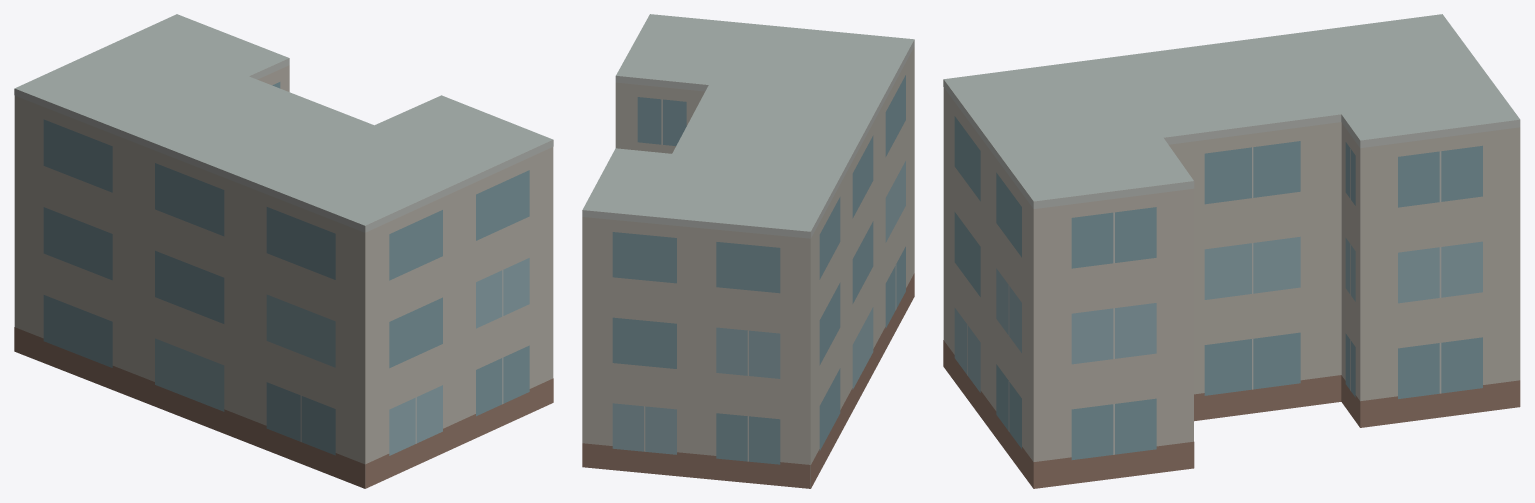
File: survey-upis-32894780.glb
The picture shows the model from 3 angles, left to right: view 1: azimuth 30°, elevation 25°; view 2: azimuth 150°, elevation 25°; view 3: azimuth 270°, elevation 25°; orthographic projection. The views are drawn at different scales.
Parts seen in each view (by area): view 1: survey-upis-32894780.tmp; view 2: survey-upis-32894780.tmp; view 3: survey-upis-32894780.tmp.
Boxes of the visible parts, <box> form: survey-upis-32894780.tmp: <box>14,14,553,488</box>; survey-upis-32894780.tmp: <box>582,14,914,488</box>; survey-upis-32894780.tmp: <box>943,14,1520,488</box>.
Size of the model in its own units: 12.82 by 9.15 by 16.66.
